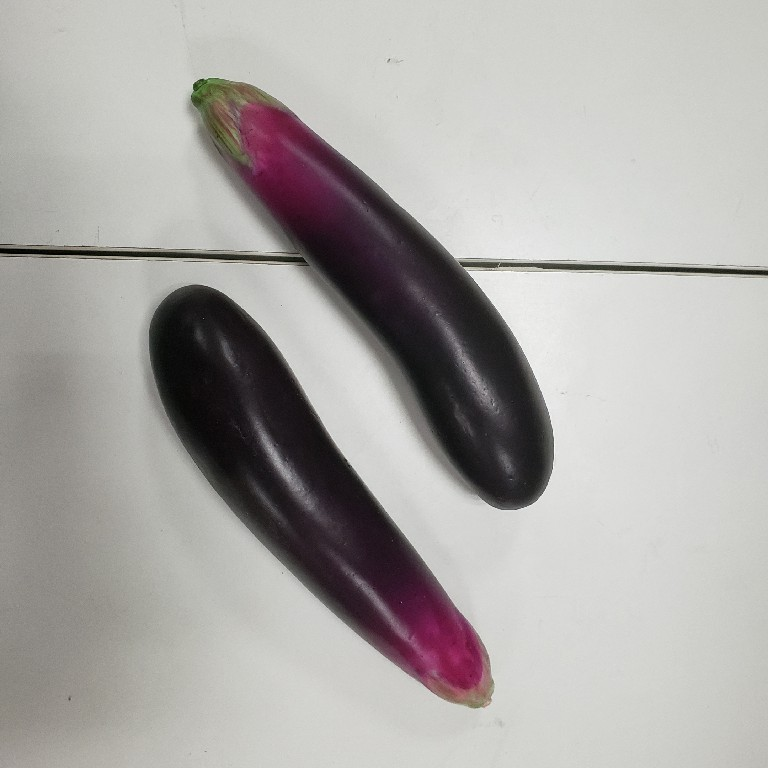fruit_eggplant: (188, 69, 561, 516), (144, 282, 499, 712)
